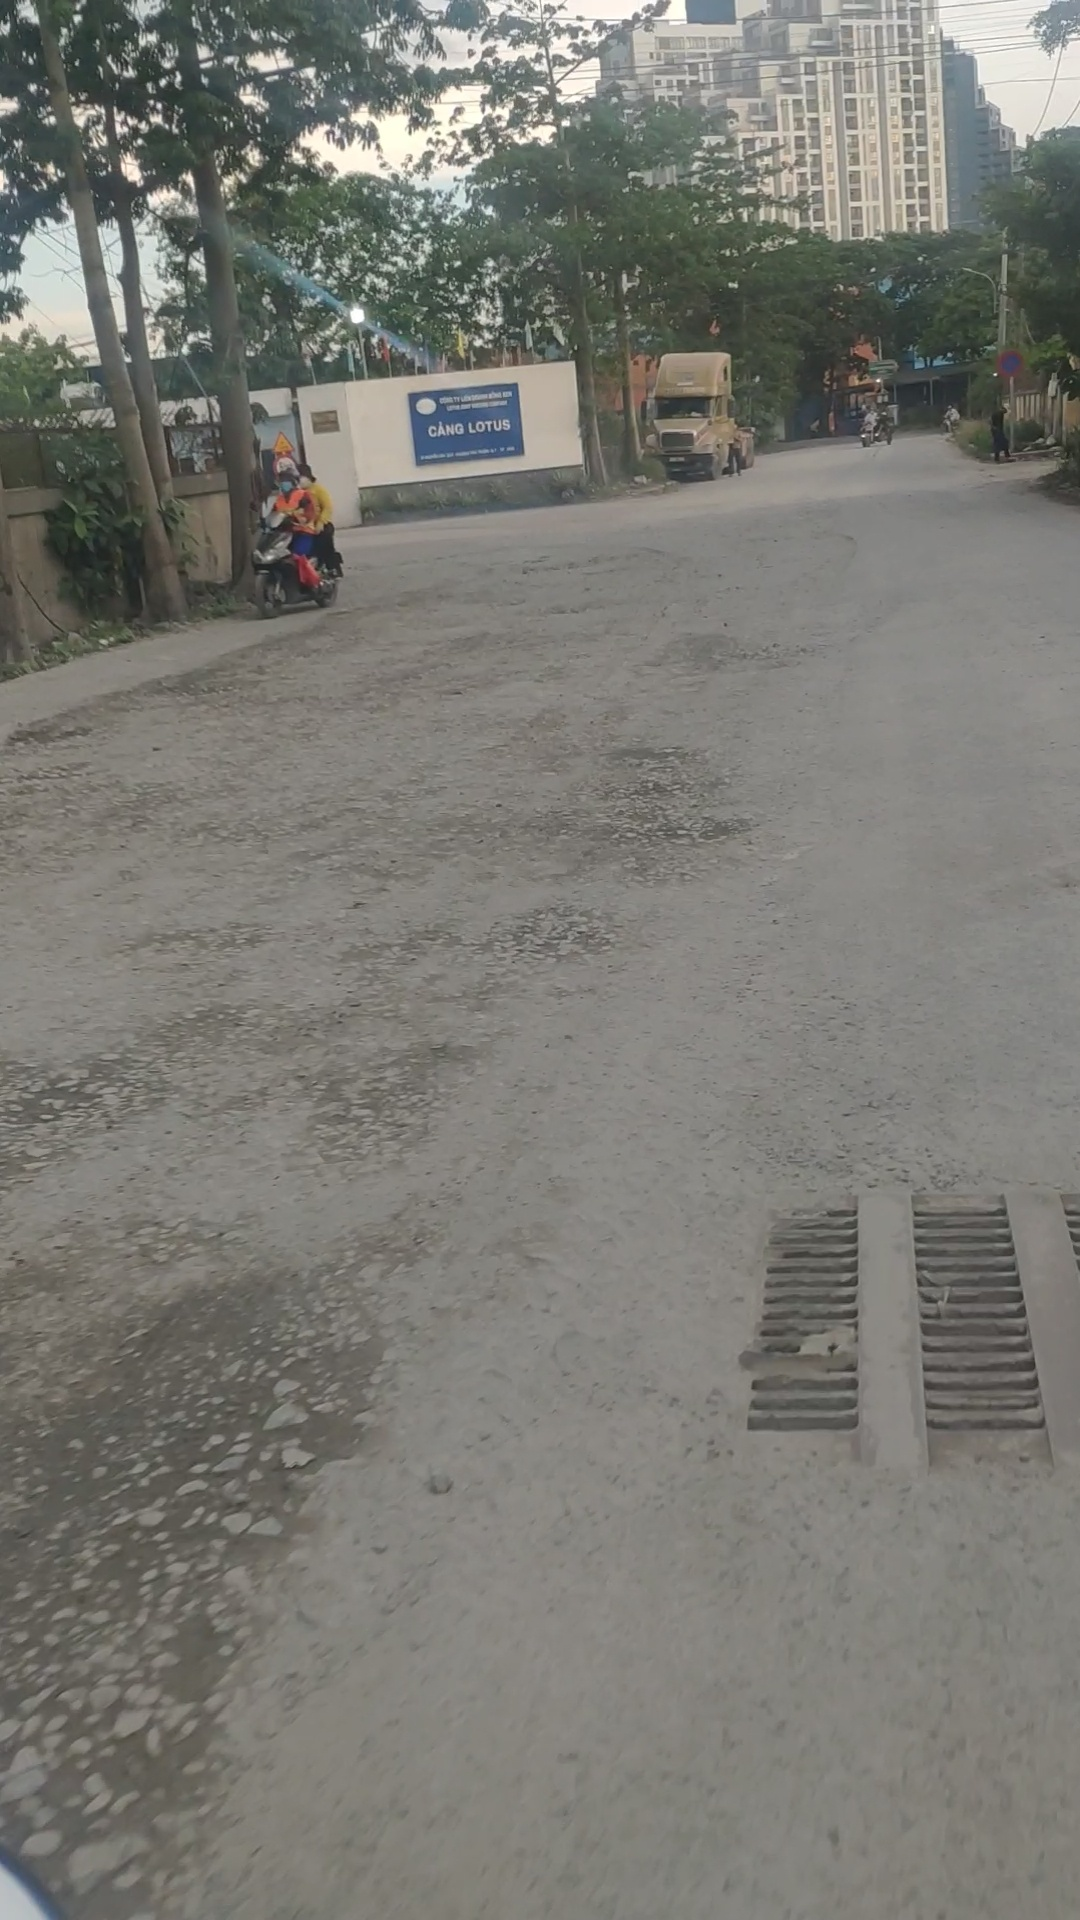hole: (1, 1213, 398, 1844), (568, 738, 781, 869), (452, 893, 641, 986), (127, 659, 252, 707), (1, 708, 102, 765), (533, 596, 622, 618)
